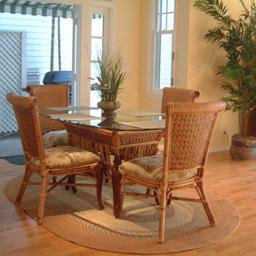Matera: (215, 23, 255, 156), (88, 63, 122, 122)
Puerta: (0, 30, 23, 131)
Ventana: (158, 5, 174, 91), (92, 12, 108, 91)
